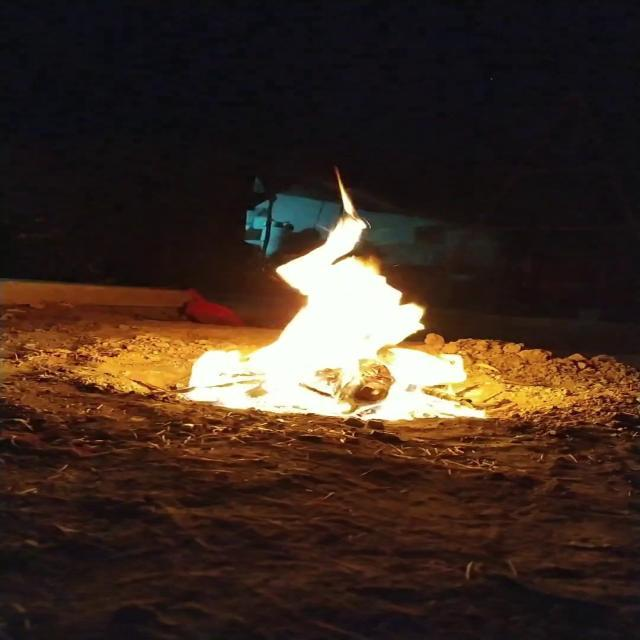Fire: (175, 165, 498, 422)
